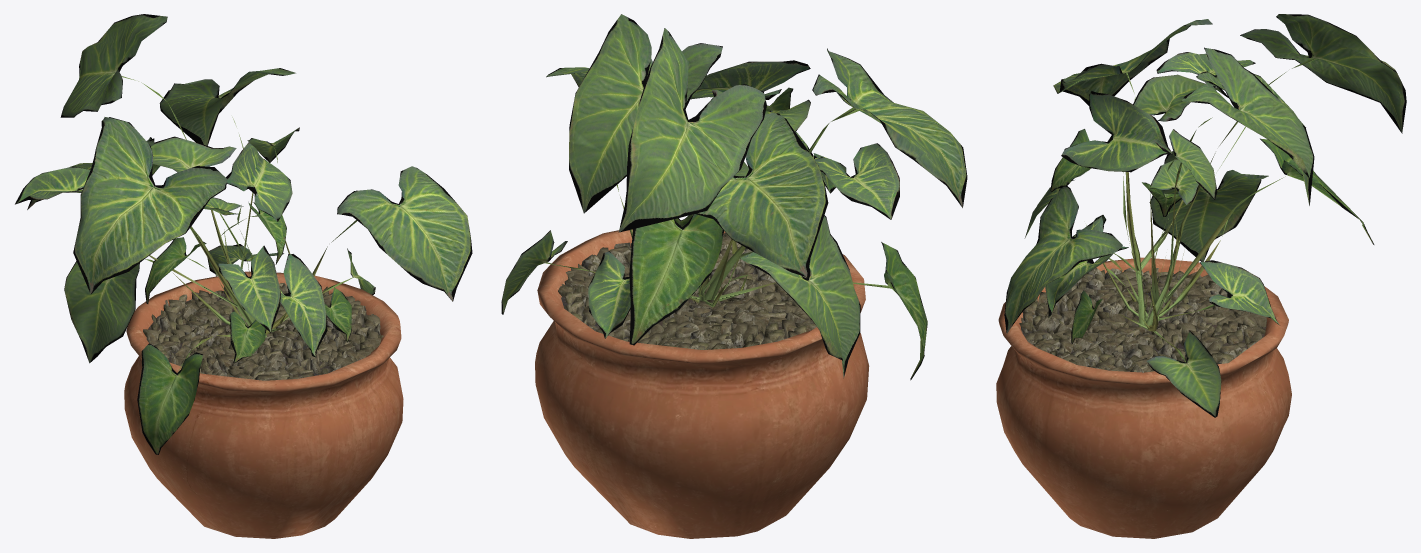
File: potted_plant_02.glb
3 views of the same model, side by side, from view 1: azimuth 30°, elevation 25°; view 2: azimuth 150°, elevation 25°; view 3: azimuth 270°, elevation 25° (orthographic). The views are drawn at different scales.
Visible parts, largest first — view 1: potted_plant_02_leaves, potted_plant_02_pot; view 2: potted_plant_02_leaves, potted_plant_02_pot; view 3: potted_plant_02_pot, potted_plant_02_leaves.
Part boxes in pixels (x1,y1,x2,y2): potted_plant_02_leaves: (15, 14, 472, 454); potted_plant_02_pot: (124, 271, 403, 538); potted_plant_02_leaves: (501, 14, 967, 380); potted_plant_02_pot: (535, 229, 869, 538); potted_plant_02_pot: (996, 257, 1291, 538); potted_plant_02_leaves: (1004, 14, 1406, 417).
Size of the model in its own units: 0.7009 by 0.8401 by 0.6561.
Materials: 2 (2 with a texture image).
